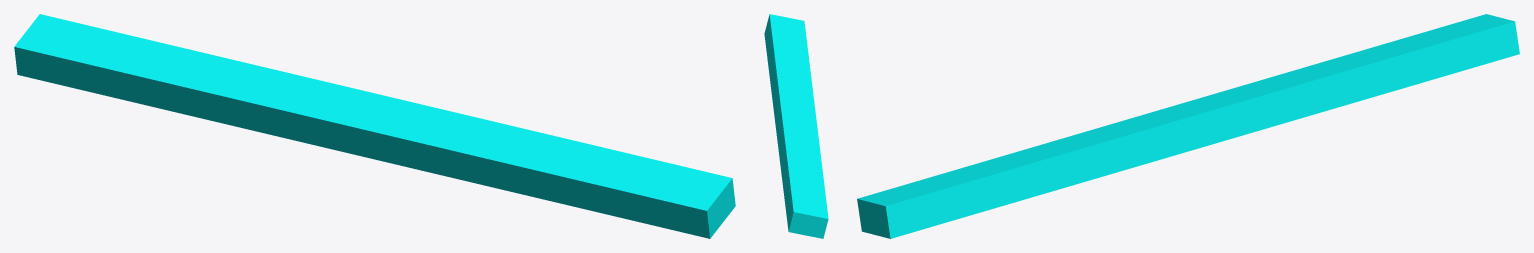
File: Blade_Clockwise_Collider.fbx
The picture shows the model from 3 angles, left to right: view 1: azimuth 30°, elevation 25°; view 2: azimuth 150°, elevation 25°; view 3: azimuth 270°, elevation 25°; orthographic projection. The views are drawn at different scales.
Parts seen in each view (by area): view 1: Blade_Clockwise_Collider; view 2: Blade_Clockwise_Collider; view 3: Blade_Clockwise_Collider.
Boxes of the visible parts, x1,y1,x2,y2 form: Blade_Clockwise_Collider: (14,14,735,238); Blade_Clockwise_Collider: (764,14,828,238); Blade_Clockwise_Collider: (857,14,1519,238).
Bounding box in the file's own units: 24.24 × 3.21 × 35.14.
